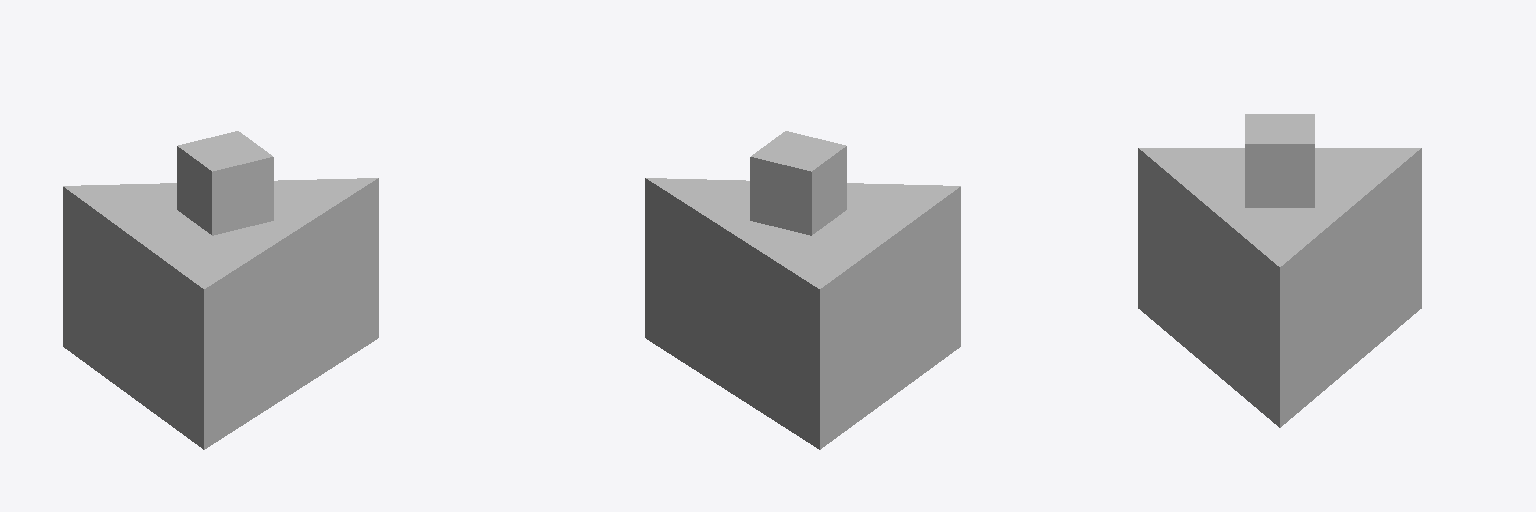
The model's file is foodz_pumpkin_cake.obj.
The picture shows the model from 3 angles: view 1: azimuth 30°, elevation 25°; view 2: azimuth 150°, elevation 25°; view 3: azimuth 270°, elevation 25°; orthographic projection.
Visible parts, largest first — view 1: cake_converted_out; view 2: cake_converted_out; view 3: cake_converted_out.
Boxes of the visible parts, <box> form: cake_converted_out: <box>63,131,378,449</box>; cake_converted_out: <box>645,131,960,449</box>; cake_converted_out: <box>1138,114,1421,427</box>.
Size of the model in its own units: 0.5 by 0.4375 by 0.5.